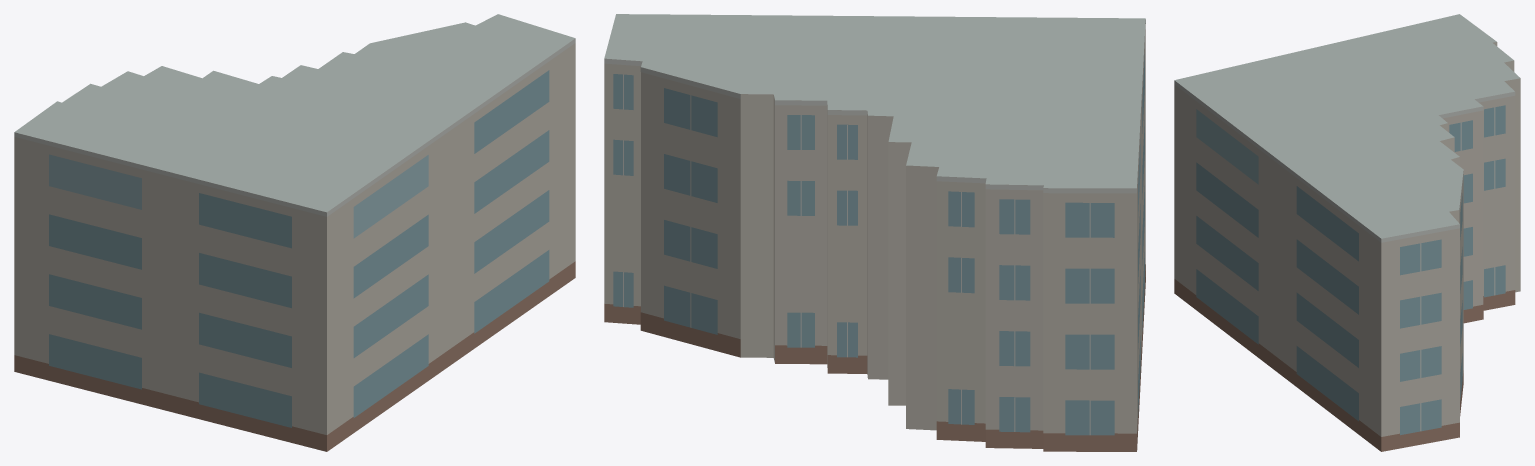
The model's file is survey-upis-32917522.glb.
3 renders of one model, left to right at view 1: azimuth 30°, elevation 25°; view 2: azimuth 150°, elevation 25°; view 3: azimuth 270°, elevation 25°, orthographic. The views are drawn at different scales.
Visible parts, largest first — view 1: survey-upis-32917522.tmp; view 2: survey-upis-32917522.tmp; view 3: survey-upis-32917522.tmp.
Boxes of the visible parts, box(x1,y1,x2,y2) form: survey-upis-32917522.tmp: box(14, 14, 575, 451); survey-upis-32917522.tmp: box(604, 14, 1145, 451); survey-upis-32917522.tmp: box(1174, 14, 1520, 451).
Size of the model in its own units: 28.95 by 12.8 by 18.86.
